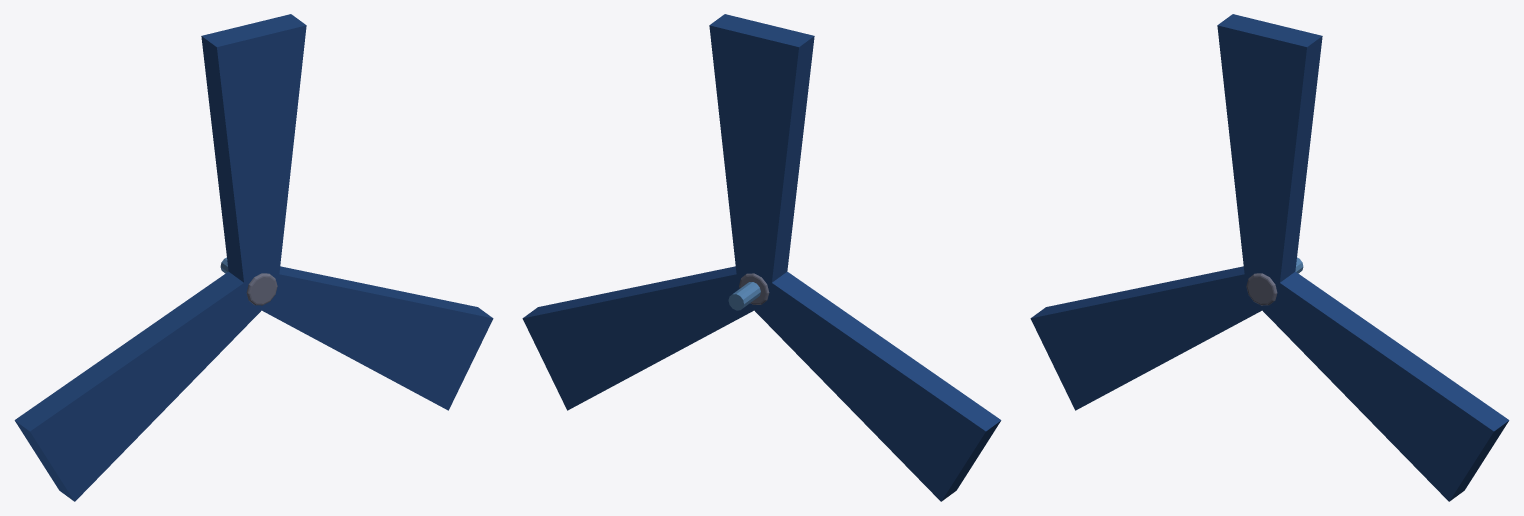
The model's file is CUPIC_PROPELLER.obj.
3 renders of one model, left to right at view 1: azimuth 30°, elevation 25°; view 2: azimuth 150°, elevation 25°; view 3: azimuth 330°, elevation 25°, orthographic.
Size of the model in its own units: 146 by 127 by 19.19.
Materials: 1 (1 with a texture image).
